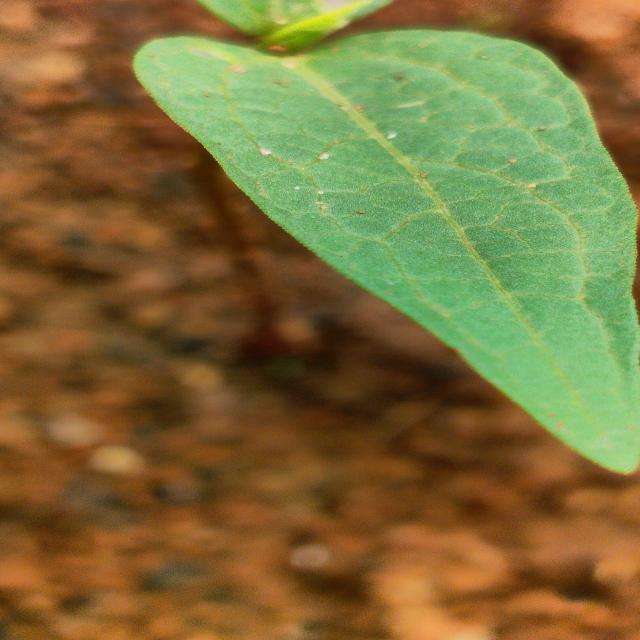Black gram_healthy: (119, 29, 640, 480)
